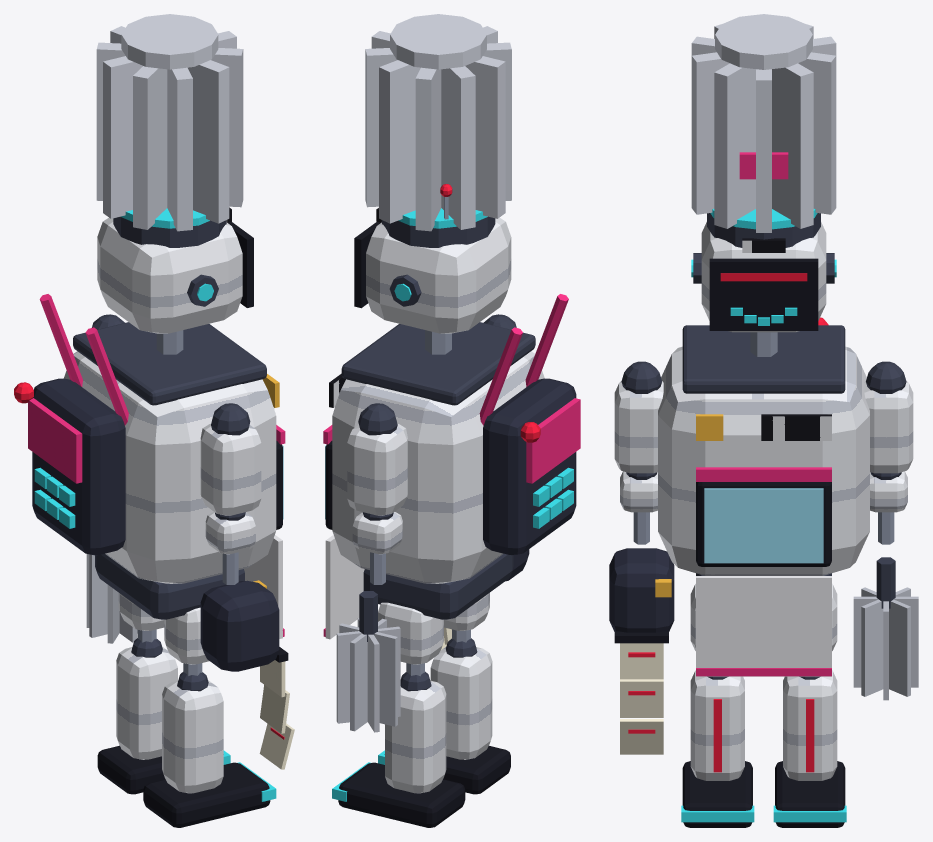
File: asr.glb
3 views of the same model, side by side, from view 1: azimuth 30°, elevation 25°; view 2: azimuth 150°, elevation 25°; view 3: azimuth 270°, elevation 25° (orthographic).
Visible parts, largest first — view 1: p_rbox.118, p_rbox.125, p_rbox.124, p_rbox.123, p_rbox.109, p_rbox.126, p_box.213, p_box.211, p_rbox.114, p_rbox.111, p_box.210, p_rbox.110 (+26 smaller); view 2: p_rbox.118, p_rbox.125, p_rbox.124, p_rbox.123, p_box.207, p_rbox.114, p_rbox.109, p_box.209, p_box.210, p_rbox.116, p_rbox.115, p_cyl.107 (+27 smaller); view 3: p_rbox.118, p_box.189, p_rbox.123, p_box.185, p_box.197, p_box.206, p_box.214, p_rbox.126, p_rbox.114, p_rbox.109, p_cyl.107, p_box.207 (+35 smaller).
Part boxes in pixels (x1=…): p_rbox.118: x1=64, y1=351, x2=276, y2=583; p_rbox.125: x1=97, y1=218, x2=242, y2=333; p_rbox.124: x1=32, y1=378, x2=125, y2=555; p_rbox.123: x1=73, y1=322, x2=266, y2=405; p_rbox.109: x1=162, y1=680, x2=223, y2=793; p_rbox.126: x1=200, y1=580, x2=279, y2=671; p_box.213: x1=188, y1=60, x2=229, y2=223; p_box.211: x1=133, y1=66, x2=167, y2=229; p_rbox.114: x1=116, y1=646, x2=177, y2=759; p_rbox.111: x1=200, y1=423, x2=261, y2=515; p_box.210: x1=103, y1=56, x2=142, y2=218; p_rbox.110: x1=143, y1=762, x2=270, y2=827; p_rbox.118: x1=332, y1=351, x2=544, y2=583; p_rbox.125: x1=366, y1=217, x2=511, y2=333; p_rbox.124: x1=483, y1=378, x2=576, y2=555; p_rbox.123: x1=341, y1=322, x2=535, y2=405; p_box.207: x1=379, y1=60, x2=420, y2=223; p_rbox.114: x1=385, y1=680, x2=446, y2=793; p_rbox.109: x1=430, y1=647, x2=492, y2=759; p_box.209: x1=441, y1=66, x2=475, y2=229; p_box.210: x1=465, y1=56, x2=505, y2=218; p_rbox.116: x1=347, y1=423, x2=407, y2=515; p_rbox.115: x1=338, y1=762, x2=465, y2=827; p_cyl.107: x1=390, y1=14, x2=486, y2=69; p_rbox.118: x1=658, y1=346, x2=869, y2=575; p_box.189: x1=696, y1=576, x2=831, y2=676; p_rbox.123: x1=682, y1=325, x2=845, y2=393; p_box.185: x1=704, y1=488, x2=823, y2=563; p_box.197: x1=709, y1=258, x2=818, y2=330; p_box.206: x1=772, y1=63, x2=813, y2=228; p_box.214: x1=714, y1=63, x2=755, y2=228; p_rbox.126: x1=609, y1=548, x2=674, y2=632; p_rbox.114: x1=783, y1=670, x2=837, y2=780; p_rbox.109: x1=690, y1=670, x2=744, y2=780; p_cyl.107: x1=715, y1=14, x2=812, y2=69; p_box.207: x1=798, y1=52, x2=836, y2=214.
Bounding box in the file's own units: 0.908 × 3.11 × 1.14.
18 materials, 2 textured.
